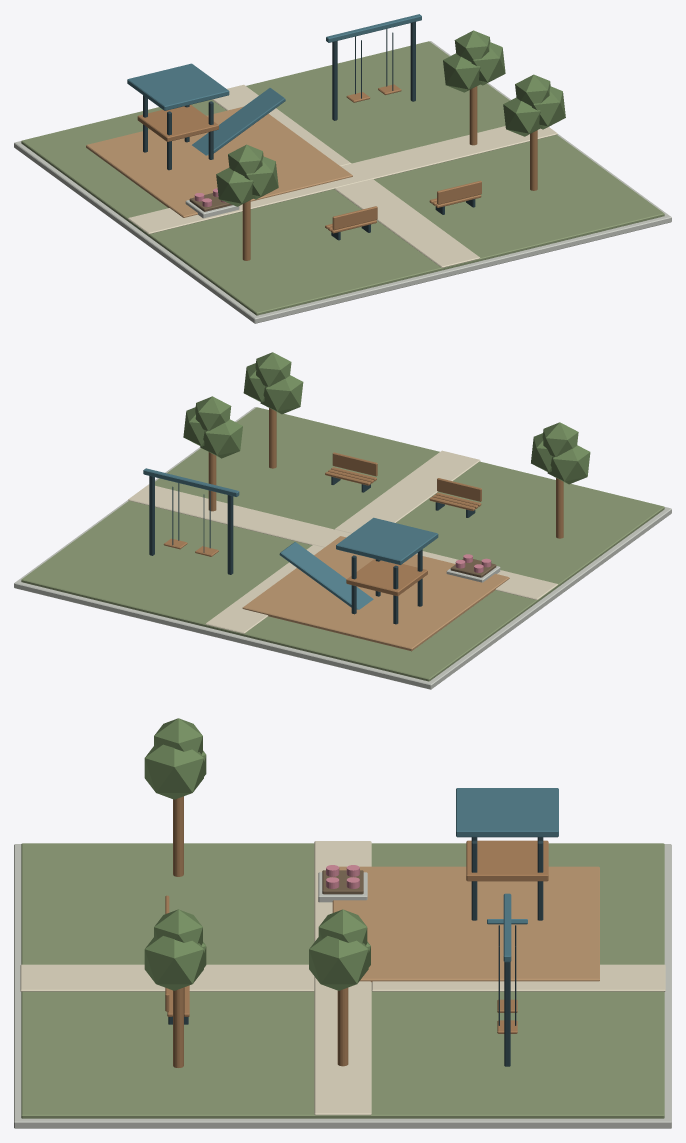
Rendered from park-play-4x4.glb.
3 renders of one model, top to bottom at view 1: azimuth 30°, elevation 25°; view 2: azimuth 150°, elevation 25°; view 3: azimuth 270°, elevation 25°, orthographic. The views are drawn at different scales.
Visible parts, largest first — view 1: FacilityCombinedMesh; view 2: FacilityCombinedMesh; view 3: FacilityCombinedMesh.
Boxes of the visible parts, bbox=[...] form: FacilityCombinedMesh: bbox=[14, 14, 671, 323]; FacilityCombinedMesh: bbox=[14, 352, 671, 689]; FacilityCombinedMesh: bbox=[14, 718, 671, 1128].
Bounding box in the file's own units: 16 × 4.5 × 16.
